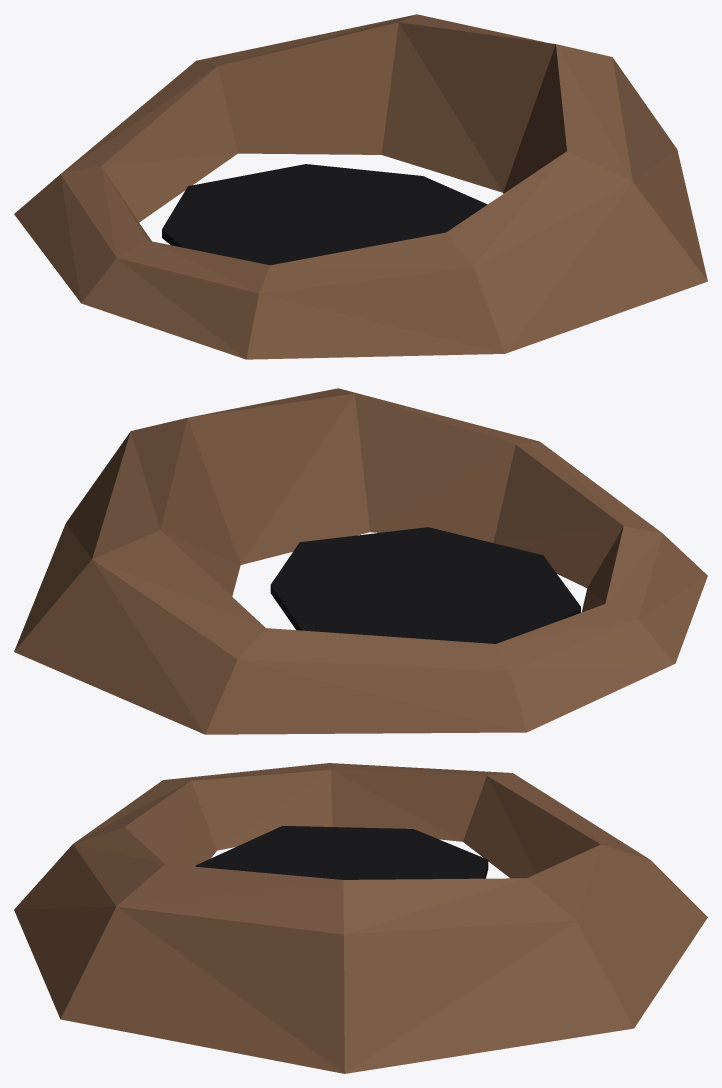
File: RC_Burrow.fbx
The picture shows the model from 3 angles, top to bottom: view 1: azimuth 30°, elevation 25°; view 2: azimuth 150°, elevation 25°; view 3: azimuth 270°, elevation 25°; orthographic projection.
Visible parts, largest first — view 1: RC_Burrow_Rim, RC_Burrow_Hole; view 2: RC_Burrow_Rim, RC_Burrow_Hole; view 3: RC_Burrow_Rim, RC_Burrow_Hole.
Part boxes in pixels (bbox=[...]): RC_Burrow_Rim: bbox=[14, 14, 707, 359]; RC_Burrow_Hole: bbox=[162, 164, 487, 265]; RC_Burrow_Rim: bbox=[14, 388, 707, 734]; RC_Burrow_Hole: bbox=[270, 527, 580, 643]; RC_Burrow_Rim: bbox=[14, 763, 707, 1073]; RC_Burrow_Hole: bbox=[195, 826, 488, 879].
Bounding box in the file's own units: 7 × 1.5 × 7.
